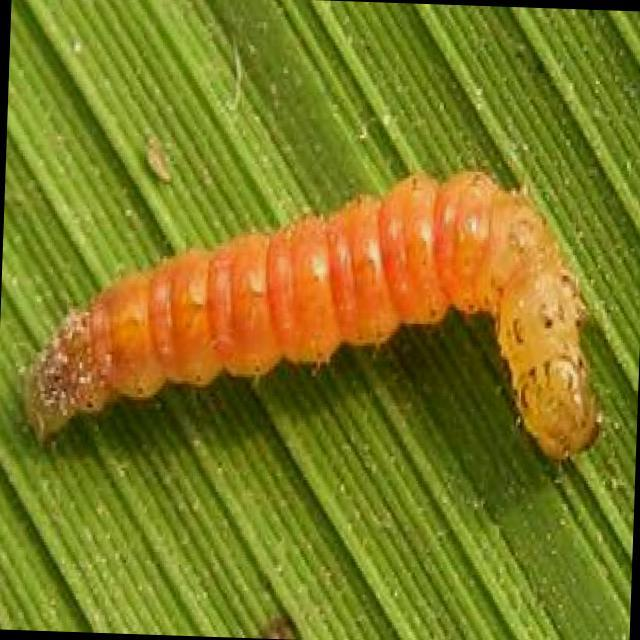leaf folder: (25, 171, 600, 458)
